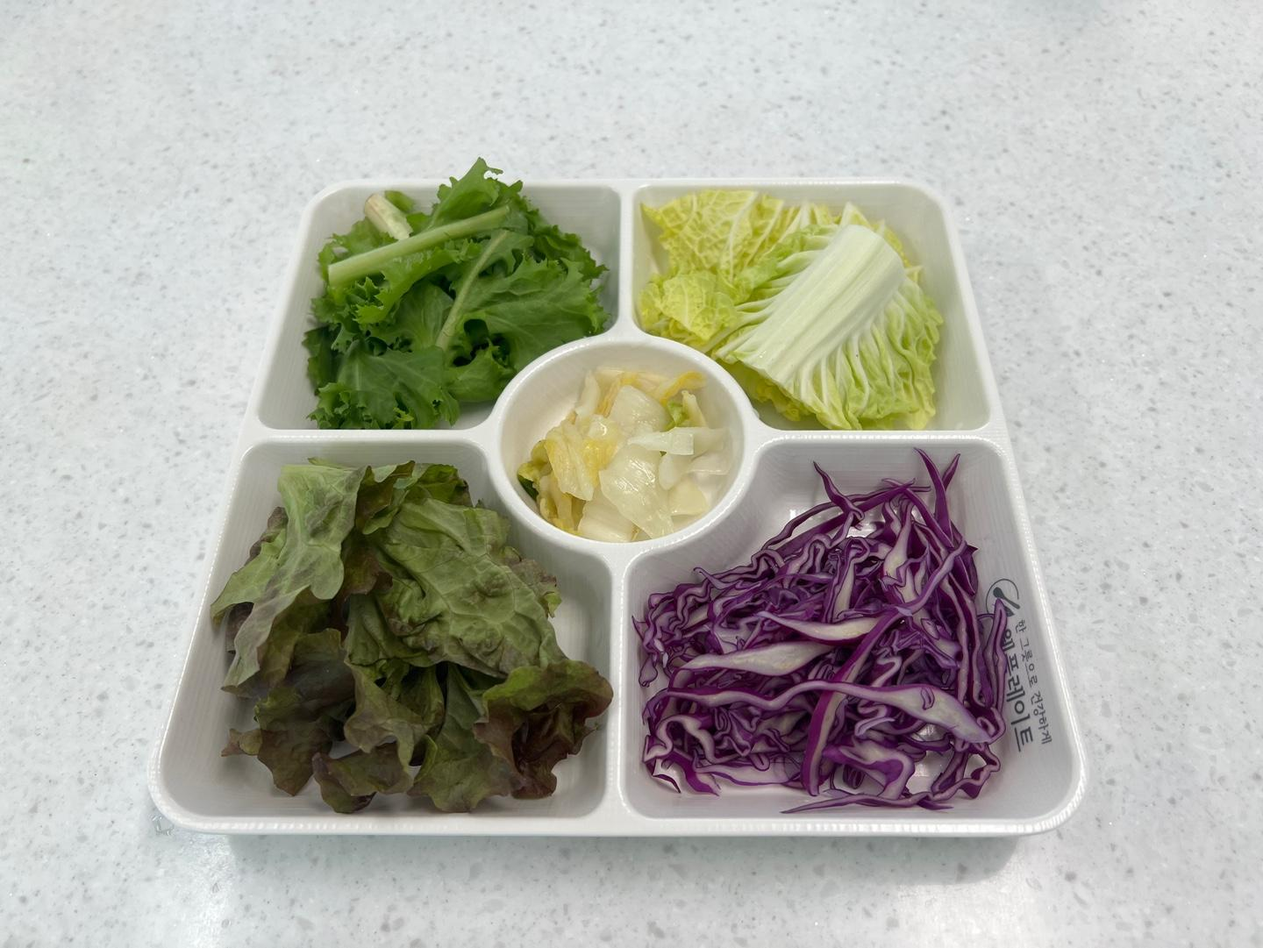food: (216, 464, 610, 814), (643, 472, 1042, 808), (234, 474, 605, 808), (640, 482, 1003, 809), (301, 162, 617, 433), (632, 187, 947, 433), (655, 196, 960, 422), (320, 190, 604, 387), (515, 354, 748, 541), (512, 367, 744, 545)
